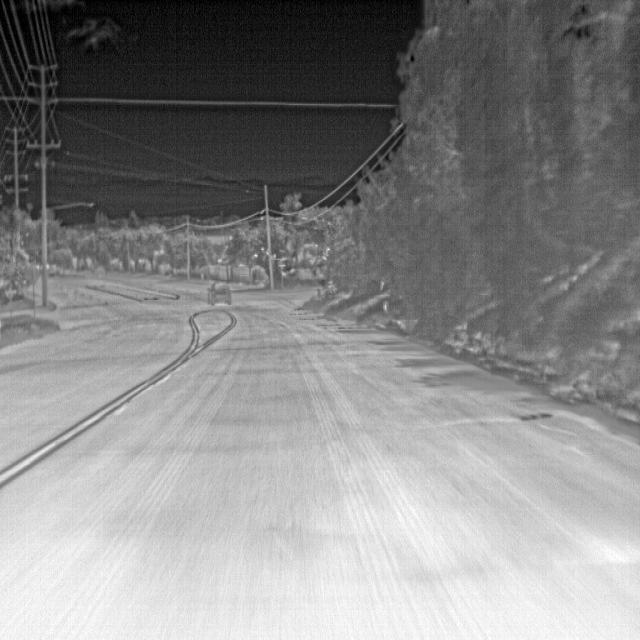Vehicle: (206, 280, 233, 307)
